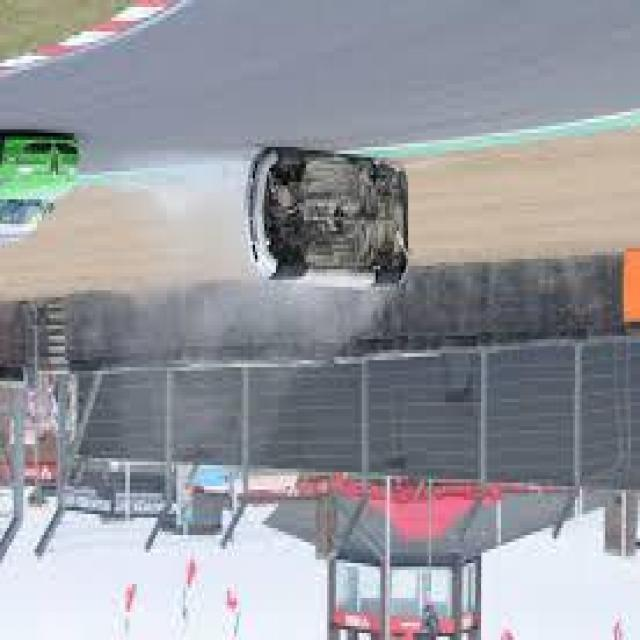severe: (241, 147, 415, 301)
